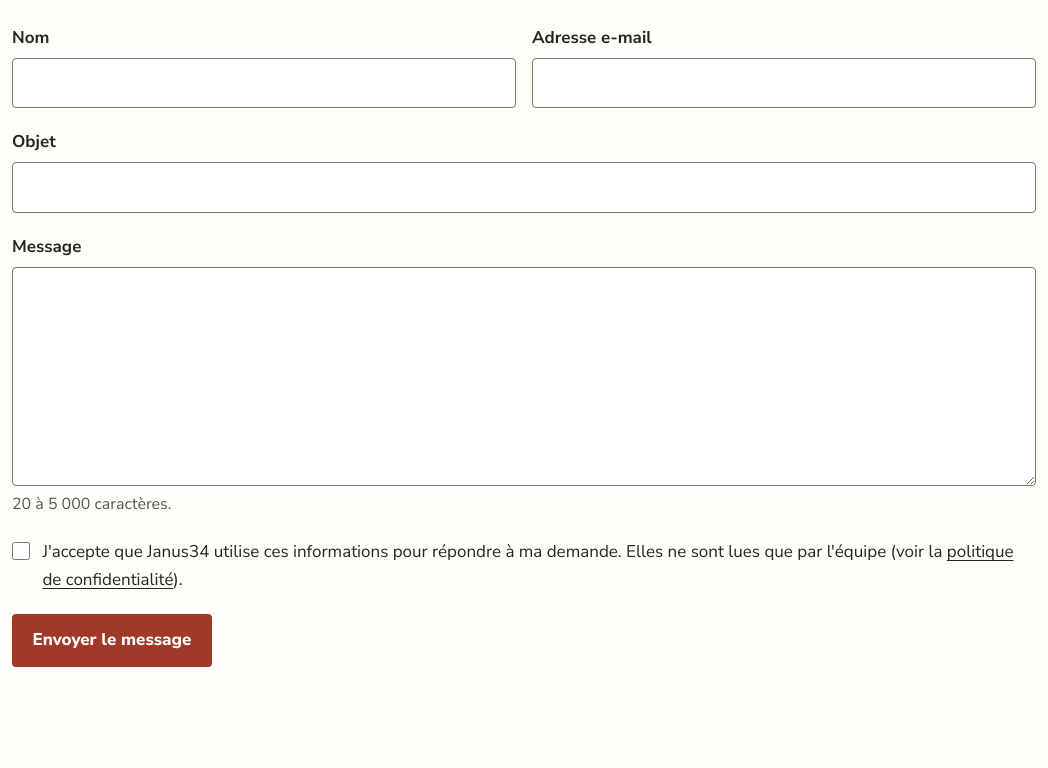
Scenario: sends the message and confirms only what the server confirmed
Type "Camille Martin" into the field labelled "Nom" at (264, 83), box [12,58,516,108]
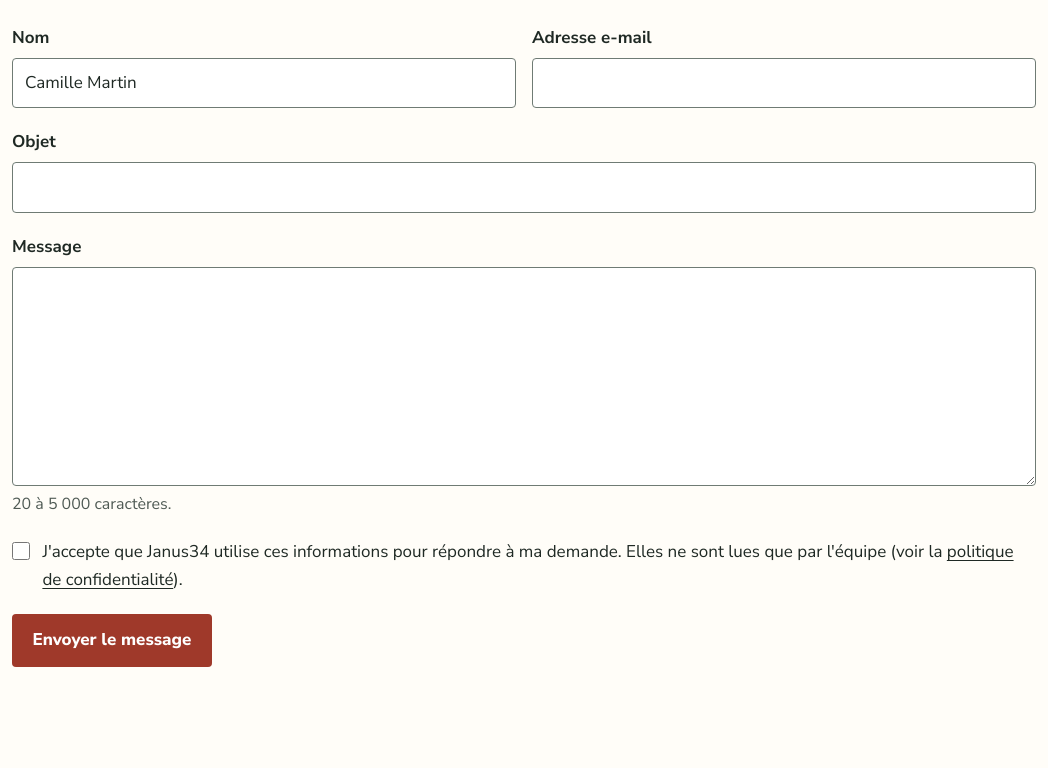
Type "camille@example.test" into the field labelled "Adresse e-mail" at (784, 83), box [532,58,1036,108]
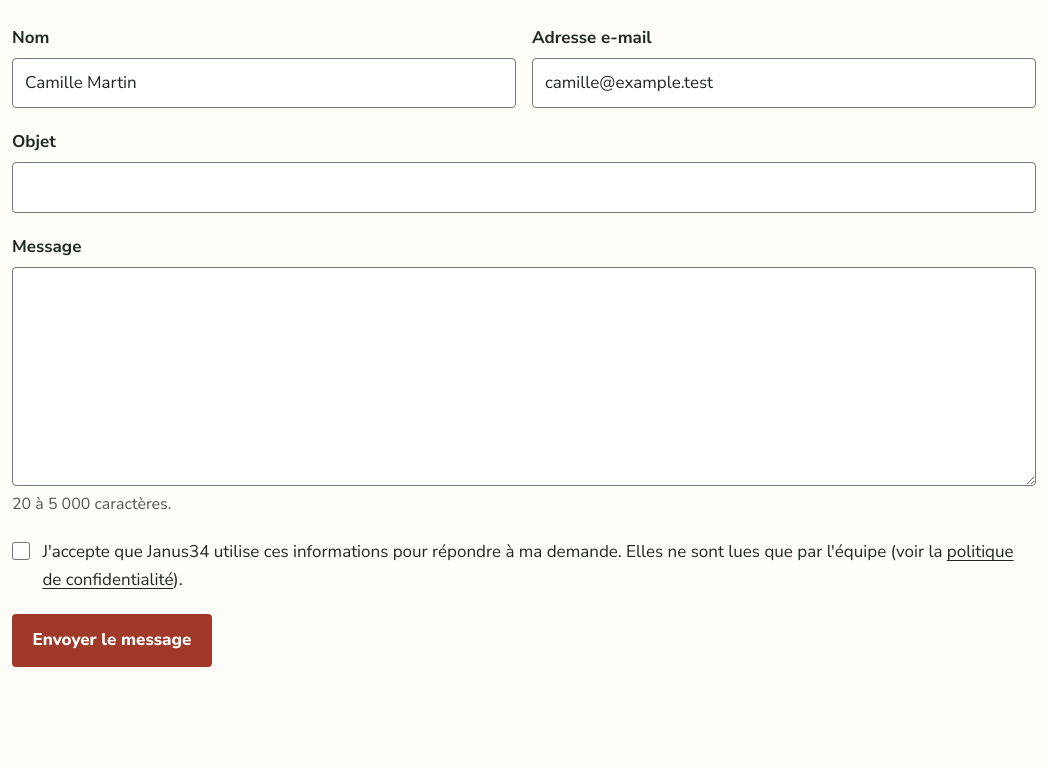
Type "Première visite" into the field labelled "Objet" at (524, 188), box [12,162,1036,213]
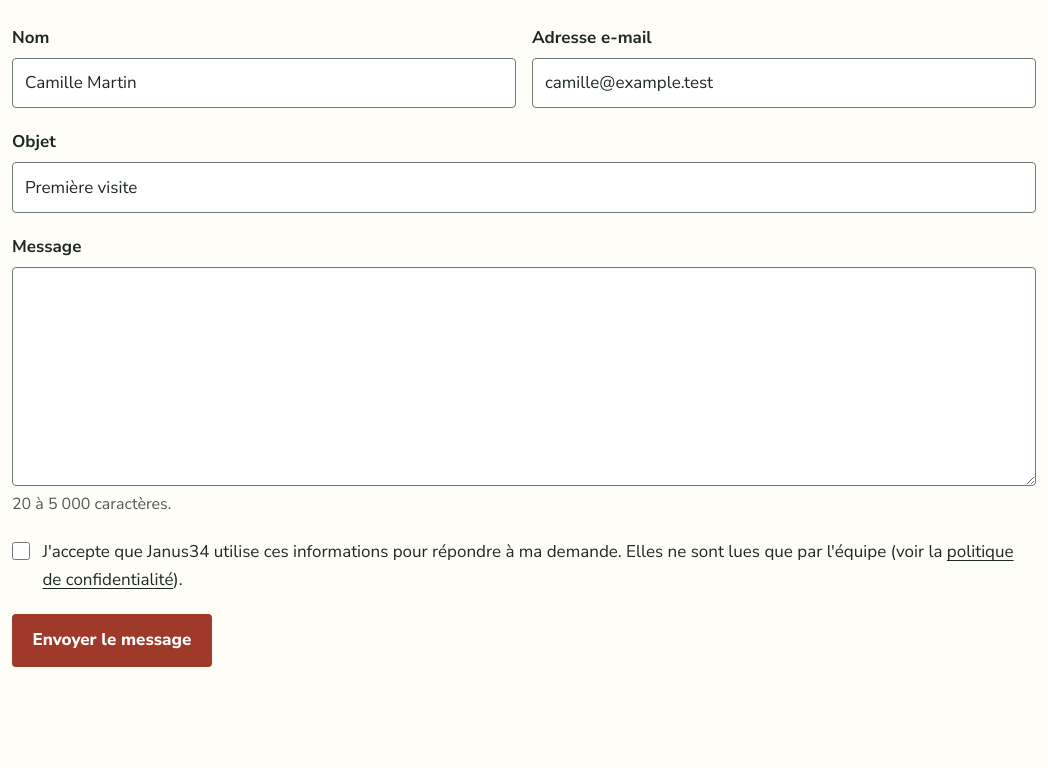
Type "Bonjour, je voudrais venir découvrir le GEM." into the text box labelled "Message" at (524, 376), box [12,267,1036,486]
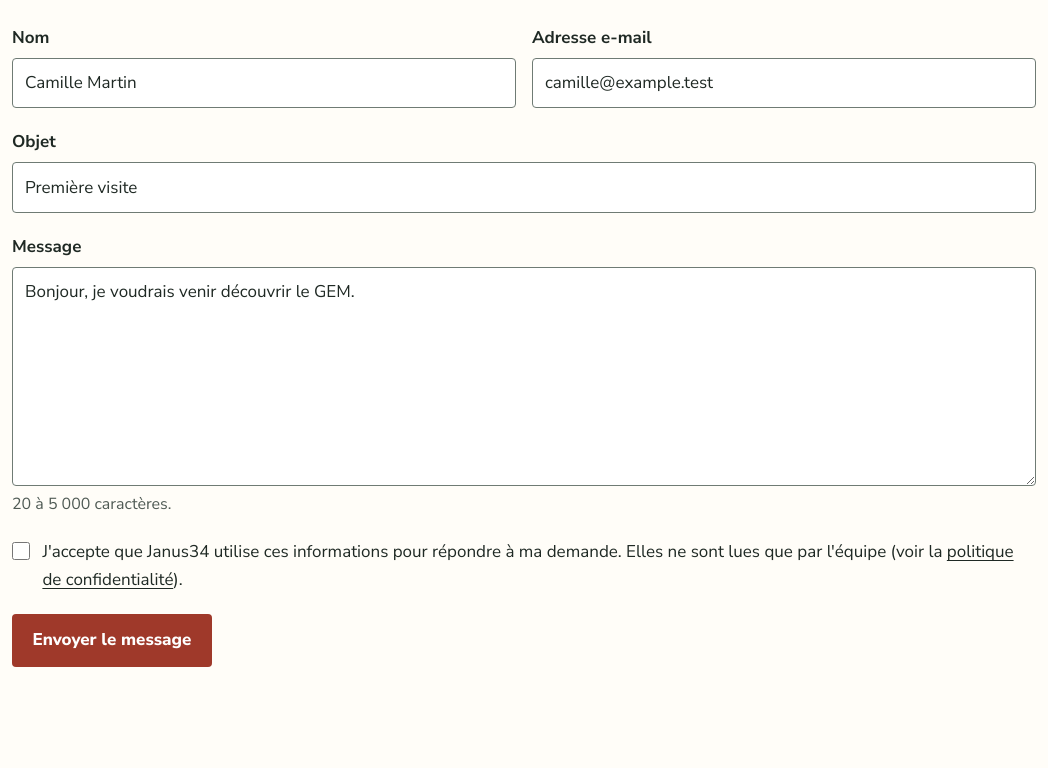
Click the checkbox at (21, 551), box [12,542,30,560]
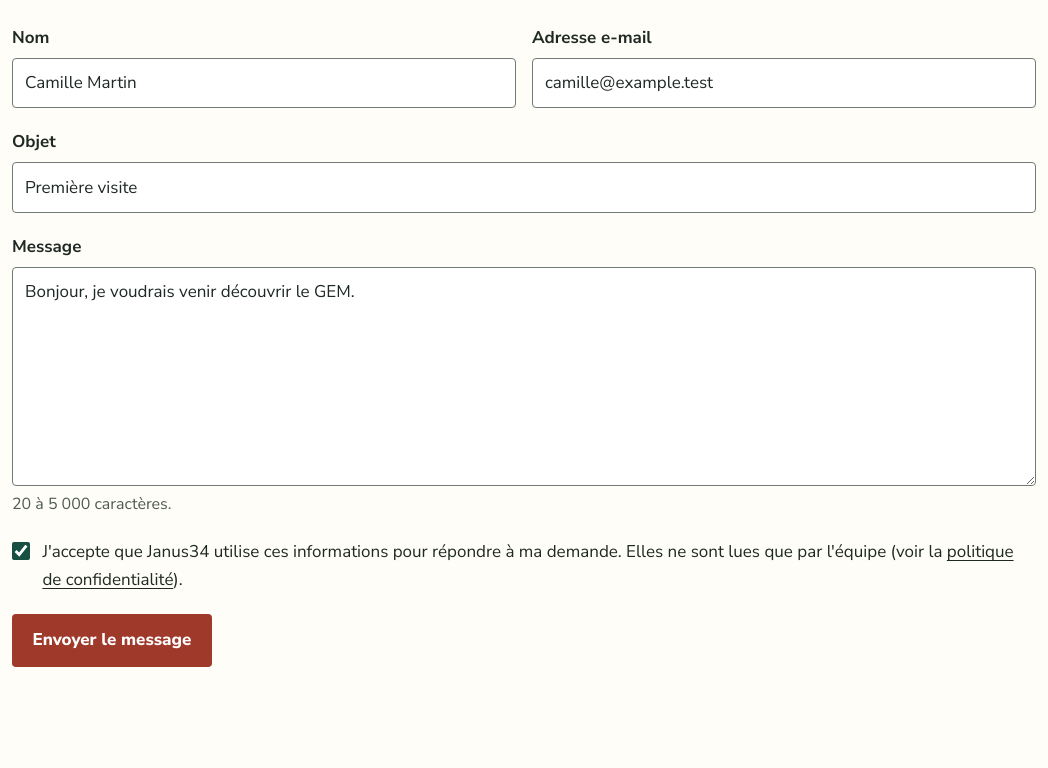
Submit the form
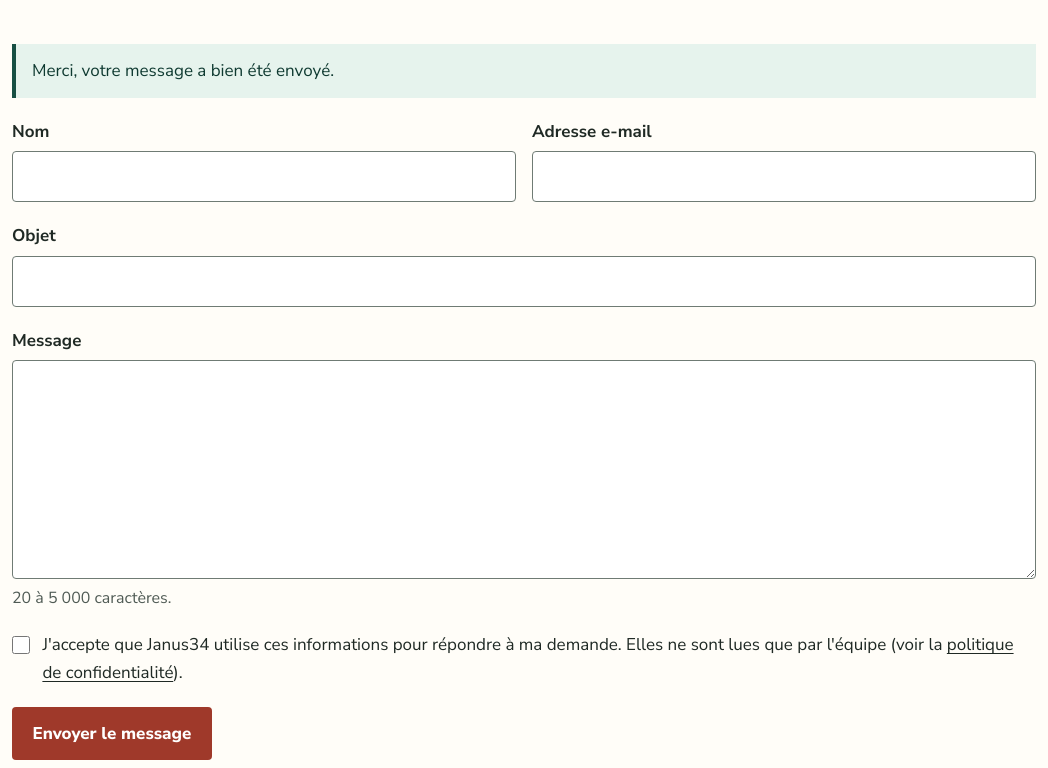
Result: the message shows "bien été envoyé" at [32,59,334,82]
Result: the field labelled "Nom" is empty at [12,151,516,202]
